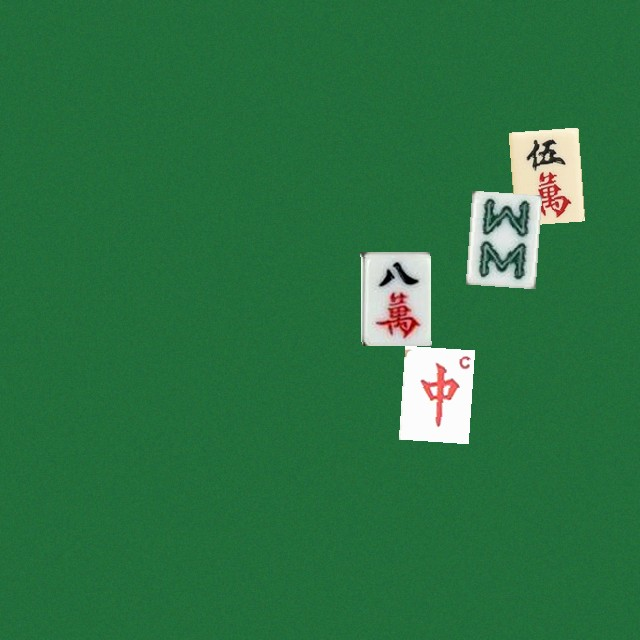tile: (360, 251, 430, 345), (508, 127, 578, 221), (465, 190, 535, 284), (398, 345, 468, 439)
